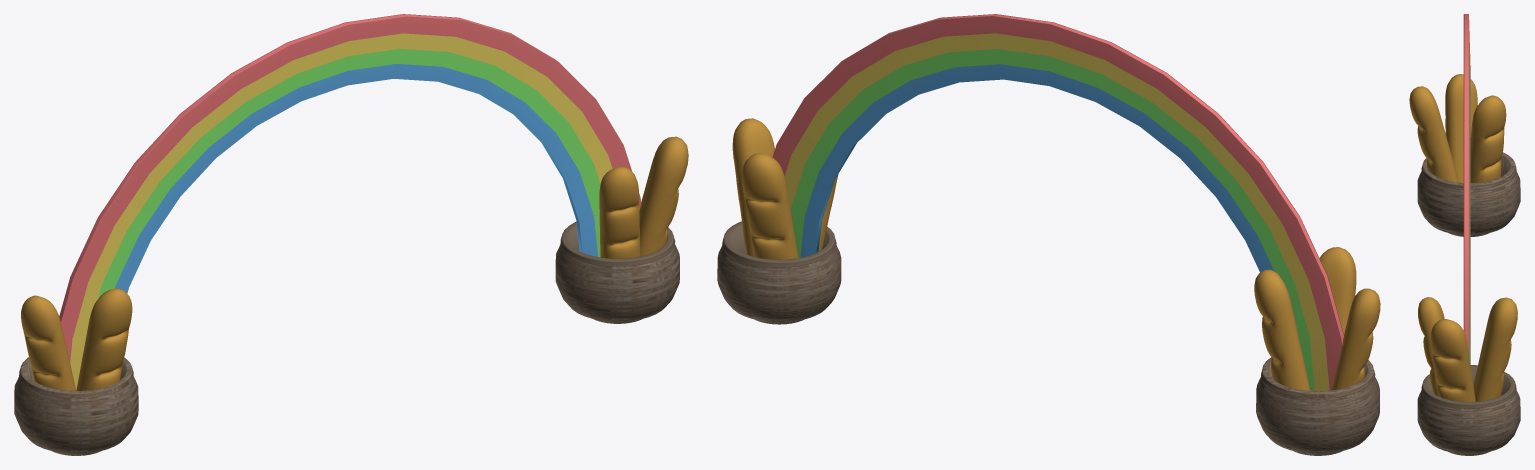
File: Gapura.fbx
3 renders of one model, left to right at view 1: azimuth 30°, elevation 25°; view 2: azimuth 150°, elevation 25°; view 3: azimuth 270°, elevation 25°, orthographic. The views are drawn at different scales.
Visible parts, largest first — view 1: Cylinder.004, Cylinder.001, Cylinder, Cube.006, Cube.005, Cube.003, Cube.001; view 2: Cylinder.004, Cylinder.001, Cylinder, Cube.004, Cube.002, Cube.001, Cube.005, Cube.006; view 3: Cylinder.001, Cylinder, Cube.004, Cube.005, Cube.002, Cylinder.004, Cube.006, Cube.001, Cube.003.
Part boxes in pixels (x1,y1,x2,y2): Cylinder.004: (59, 14, 641, 389); Cylinder.001: (555, 222, 679, 323); Cylinder: (14, 357, 138, 455); Cube.006: (76, 288, 132, 390); Cube.005: (639, 136, 688, 256); Cube.003: (599, 166, 640, 258); Cube.001: (21, 295, 76, 390); Cylinder.004: (772, 14, 1343, 391); Cylinder.001: (717, 221, 841, 324); Cylinder: (1256, 357, 1379, 455); Cube.004: (742, 153, 798, 259); Cube.002: (1254, 269, 1310, 390); Cube.001: (1331, 288, 1380, 390); Cube.005: (732, 118, 774, 256); Cube.006: (1310, 247, 1356, 390); Cylinder.001: (1417, 365, 1520, 455); Cylinder: (1417, 152, 1520, 236); Cube.004: (1473, 297, 1517, 401); Cube.005: (1430, 319, 1475, 401); Cube.002: (1470, 95, 1506, 182); Cylinder.004: (1463, 14, 1470, 364); Cube.006: (1409, 86, 1458, 182); Cube.001: (1445, 74, 1477, 182); Cube.003: (1418, 297, 1444, 396).
Size of the model in its own units: 18.66 by 9.66 by 3.32.
